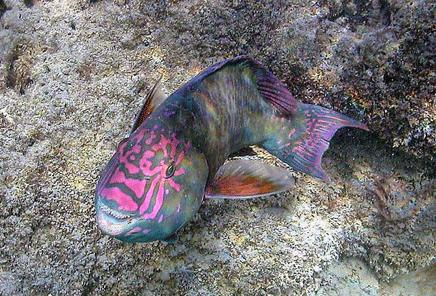Scaridae -Parrotfishes-: (83, 49, 392, 260)
